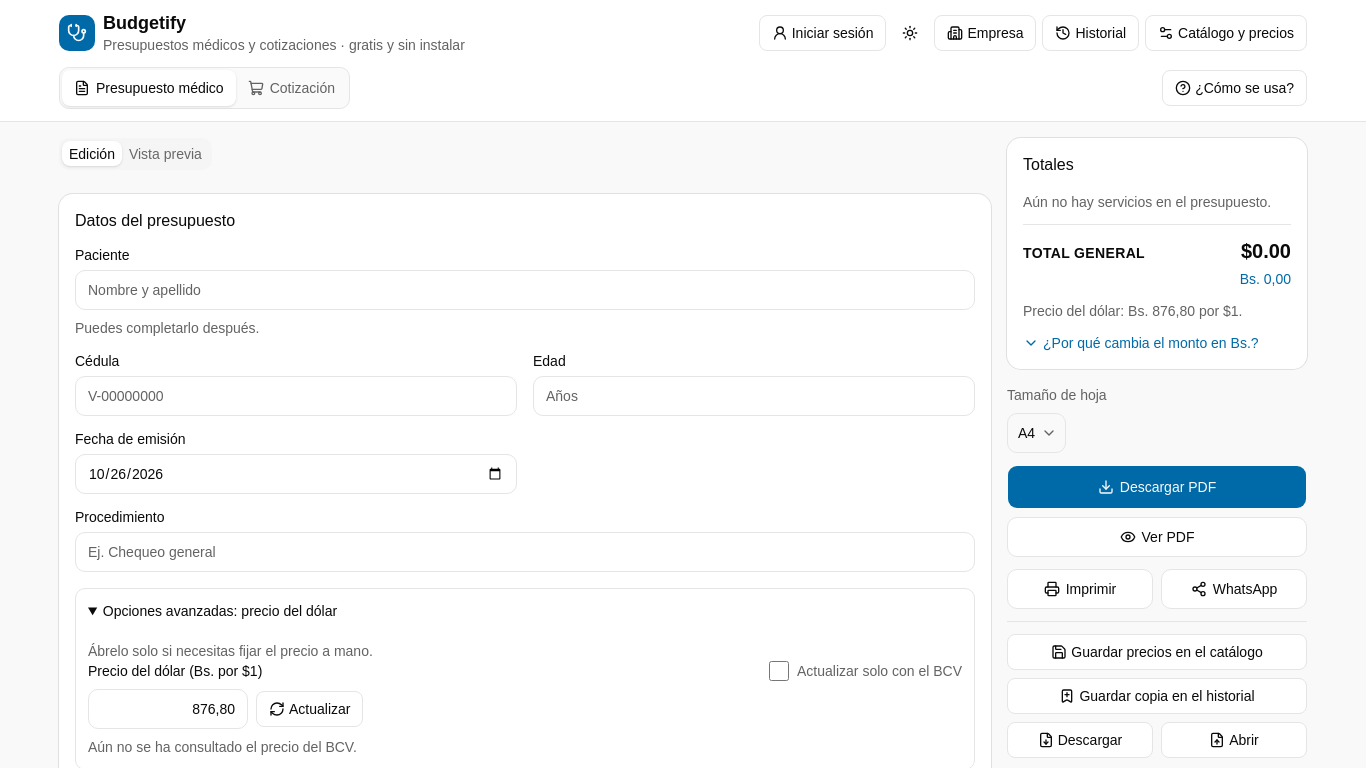
Test case: App · interacciones › muestra la vista previa del documento con la clínica y el RIF
Click the tab "Vista previa" at (165, 154), box [122, 141, 209, 166]
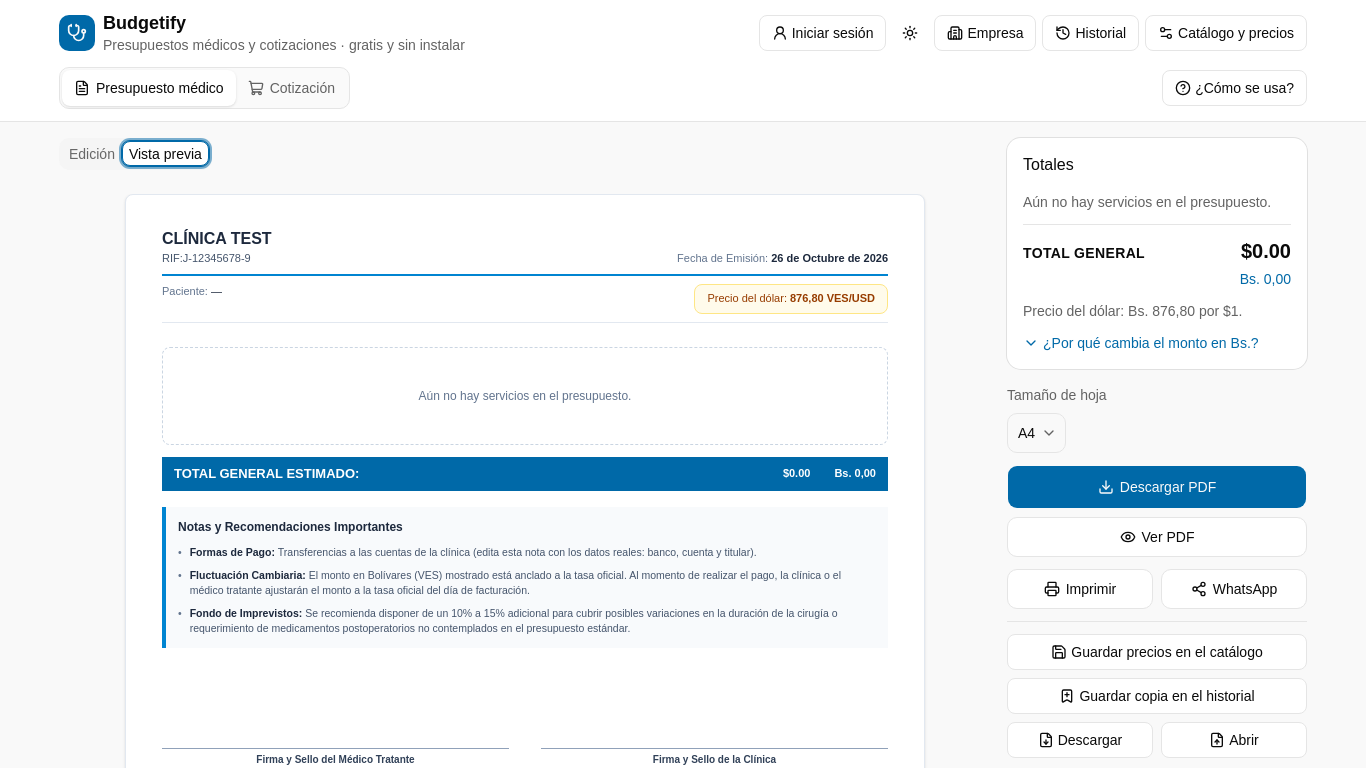
Now the 1st text "Clínica Test" is shown, box [162, 226, 272, 250]
Now the text "RIF:J-12345678-9" is shown, box [162, 252, 251, 264]
